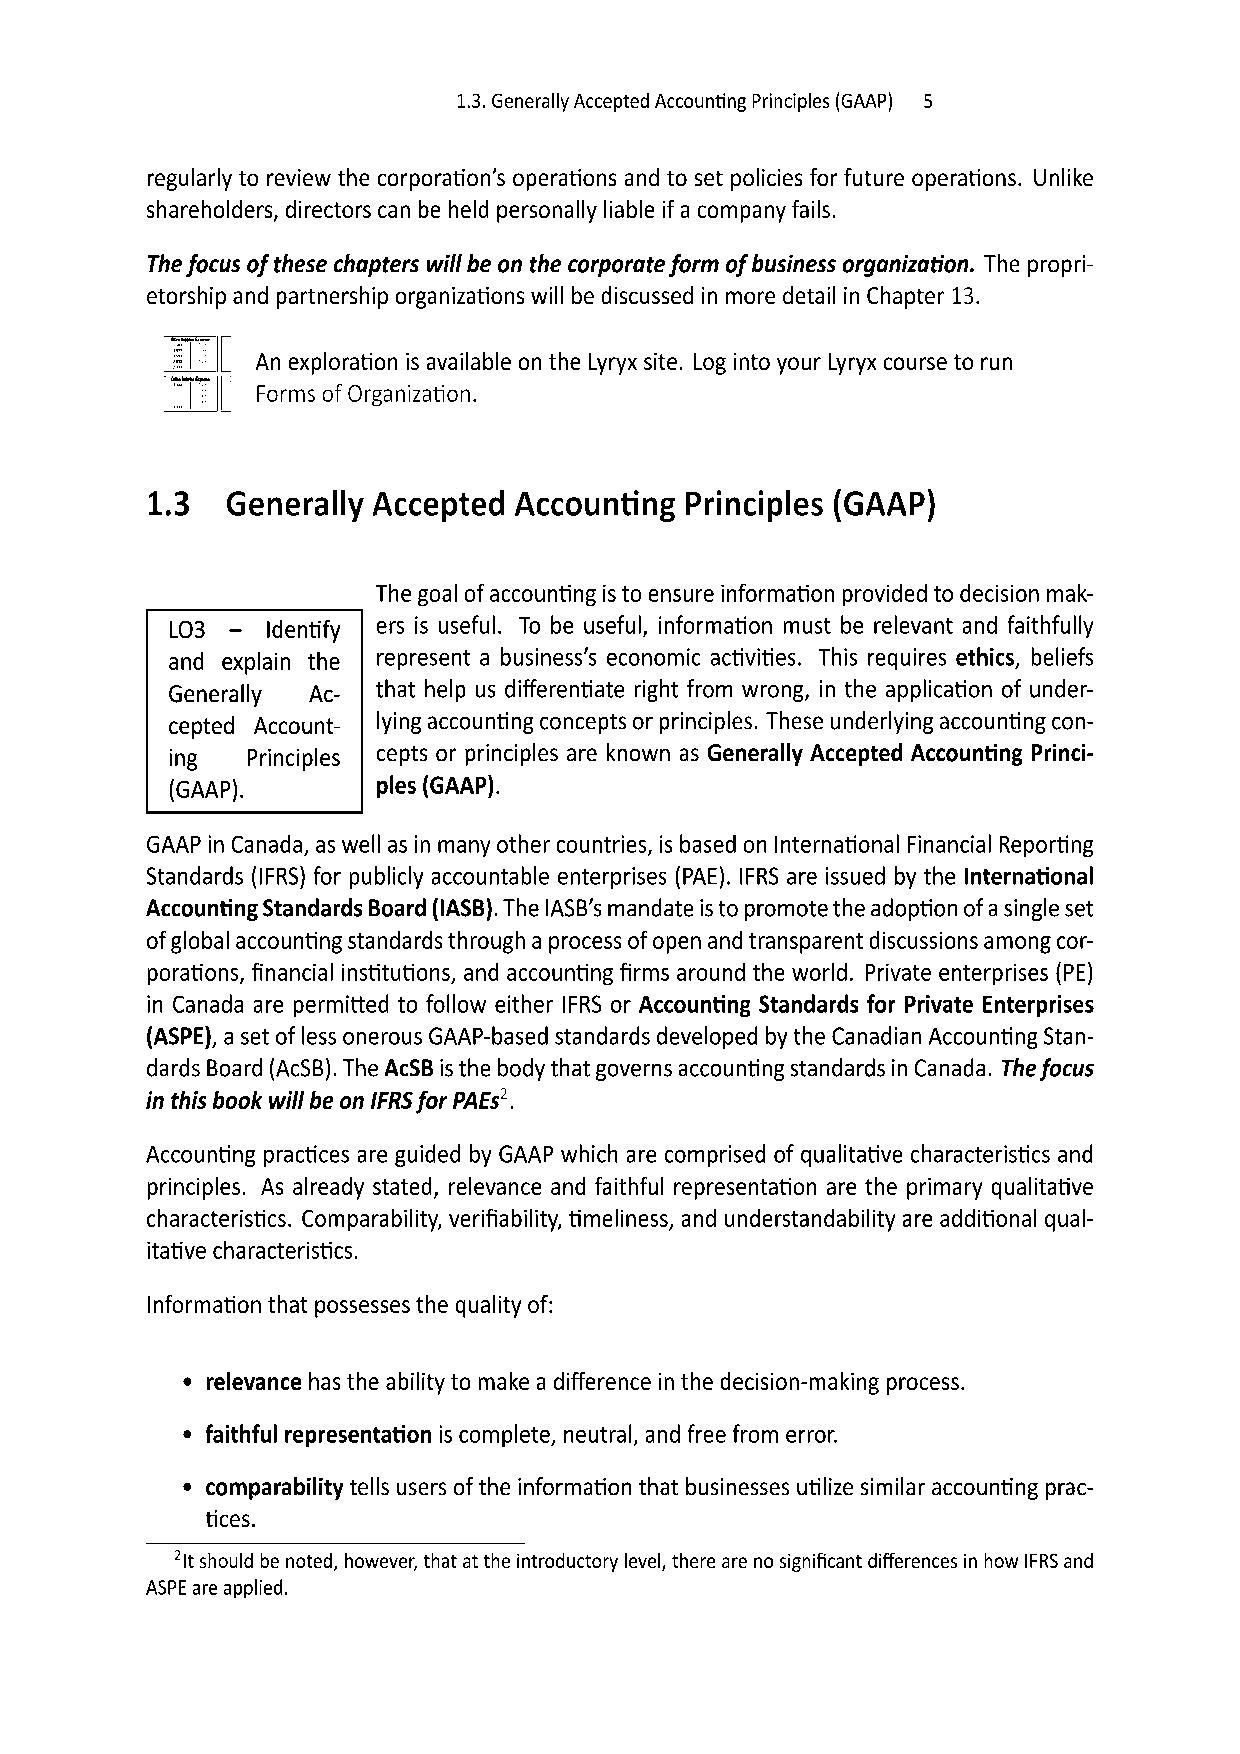chapter: (144, 487, 935, 523)
content: (138, 568, 1096, 1537), (136, 157, 1103, 419)
content_chapter: (452, 89, 896, 113)
content_pagenumber: (919, 86, 934, 110)
